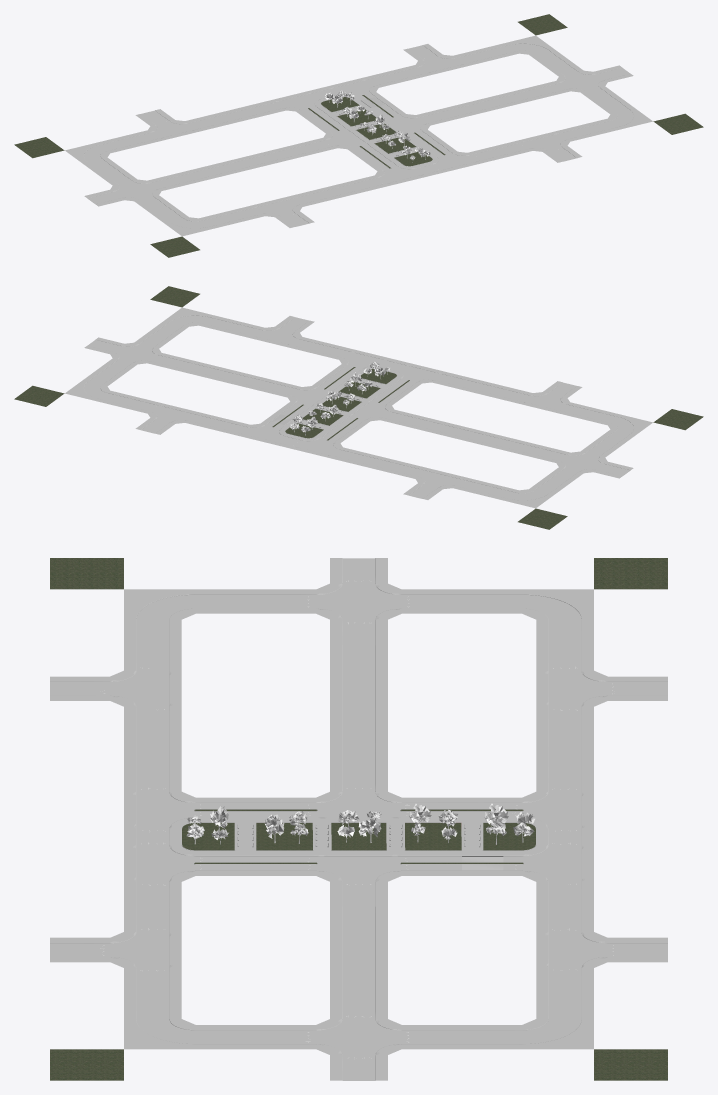
Rendered from Double-Block-05-C.fbx.
3 views of the same model, one above another, from view 1: azimuth 30°, elevation 25°; view 2: azimuth 150°, elevation 25°; view 3: azimuth 270°, elevation 25° (orthographic). The views are drawn at different scales.
Visible parts, largest first — view 1: Double-Block-05-B, Double-Block-05, Double-Block-05-C, Double-Block-05-Sidewalk-B, Double-Block-05-Sidewalk-C, Double-Block-05-Sidewalk, Trees; view 2: Double-Block-05-B, Double-Block-05, Double-Block-05-C, Double-Block-05-Sidewalk-B, Double-Block-05-Sidewalk, Double-Block-05-Sidewalk-C, Trees; view 3: Double-Block-05-B, Double-Block-05, Double-Block-05-C, Double-Block-05-Sidewalk-B, Double-Block-05-Sidewalk, Double-Block-05-Sidewalk-C, Trees, flowerbed.
Boxes of the visible parts, <box> form: Double-Block-05-B: <box>232,73,503,194</box>; Double-Block-05: <box>14,110,342,257</box>; Double-Block-05-C: <box>393,14,703,161</box>; Double-Block-05-Sidewalk-B: <box>193,67,524,204</box>; Double-Block-05-Sidewalk-C: <box>403,35,652,162</box>; Double-Block-05-Sidewalk: <box>65,109,314,236</box>; Trees: <box>325,90,430,162</box>; Double-Block-05-B: <box>214,345,485,466</box>; Double-Block-05: <box>375,382,703,529</box>; Double-Block-05-C: <box>14,286,324,433</box>; Double-Block-05-Sidewalk-B: <box>193,339,524,476</box>; Double-Block-05-Sidewalk: <box>403,381,652,508</box>; Double-Block-05-Sidewalk-C: <box>65,307,314,434</box>; Trees: <box>289,362,390,435</box>; Double-Block-05-B: <box>135,749,582,906</box>; Double-Block-05: <box>50,558,667,749</box>; Double-Block-05-C: <box>50,906,667,1080</box>; Double-Block-05-Sidewalk-B: <box>124,715,593,923</box>; Double-Block-05-Sidewalk: <box>50,558,667,714</box>; Double-Block-05-Sidewalk-C: <box>50,924,667,1080</box>; Trees: <box>186,803,534,844</box>; flowerbed: <box>194,809,523,864</box>.
Size of what is drawn, in the model's own units: 600 by 14.25 by 300.
